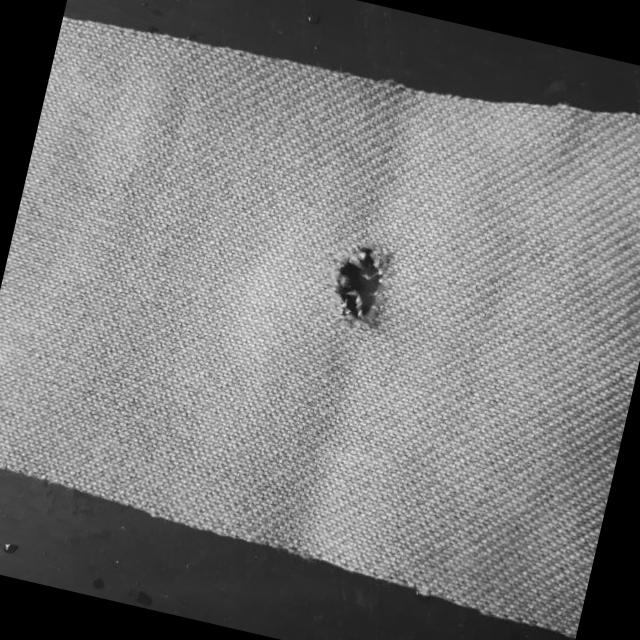hole: (320, 231, 399, 340)
